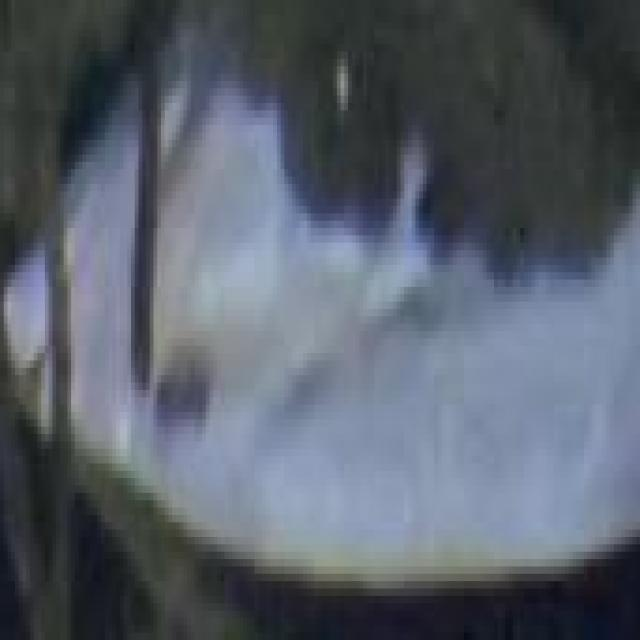fish: (3, 1, 640, 633)
